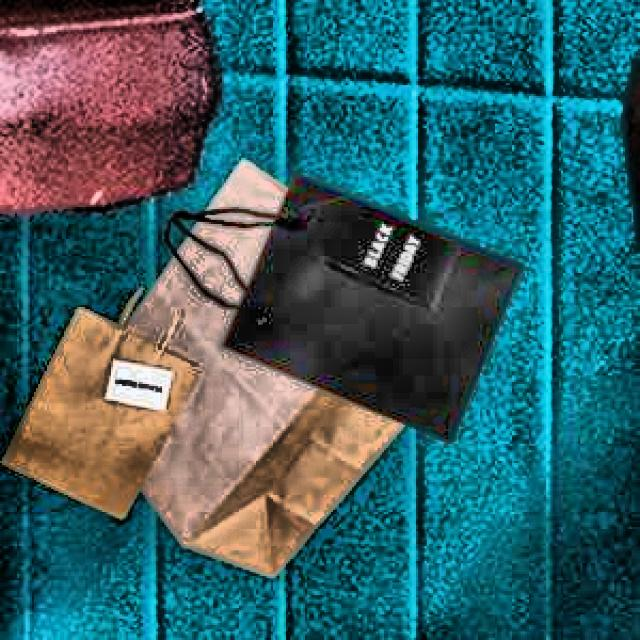Paper-bag: (70, 160, 451, 610), (150, 153, 532, 454), (8, 307, 203, 528)
